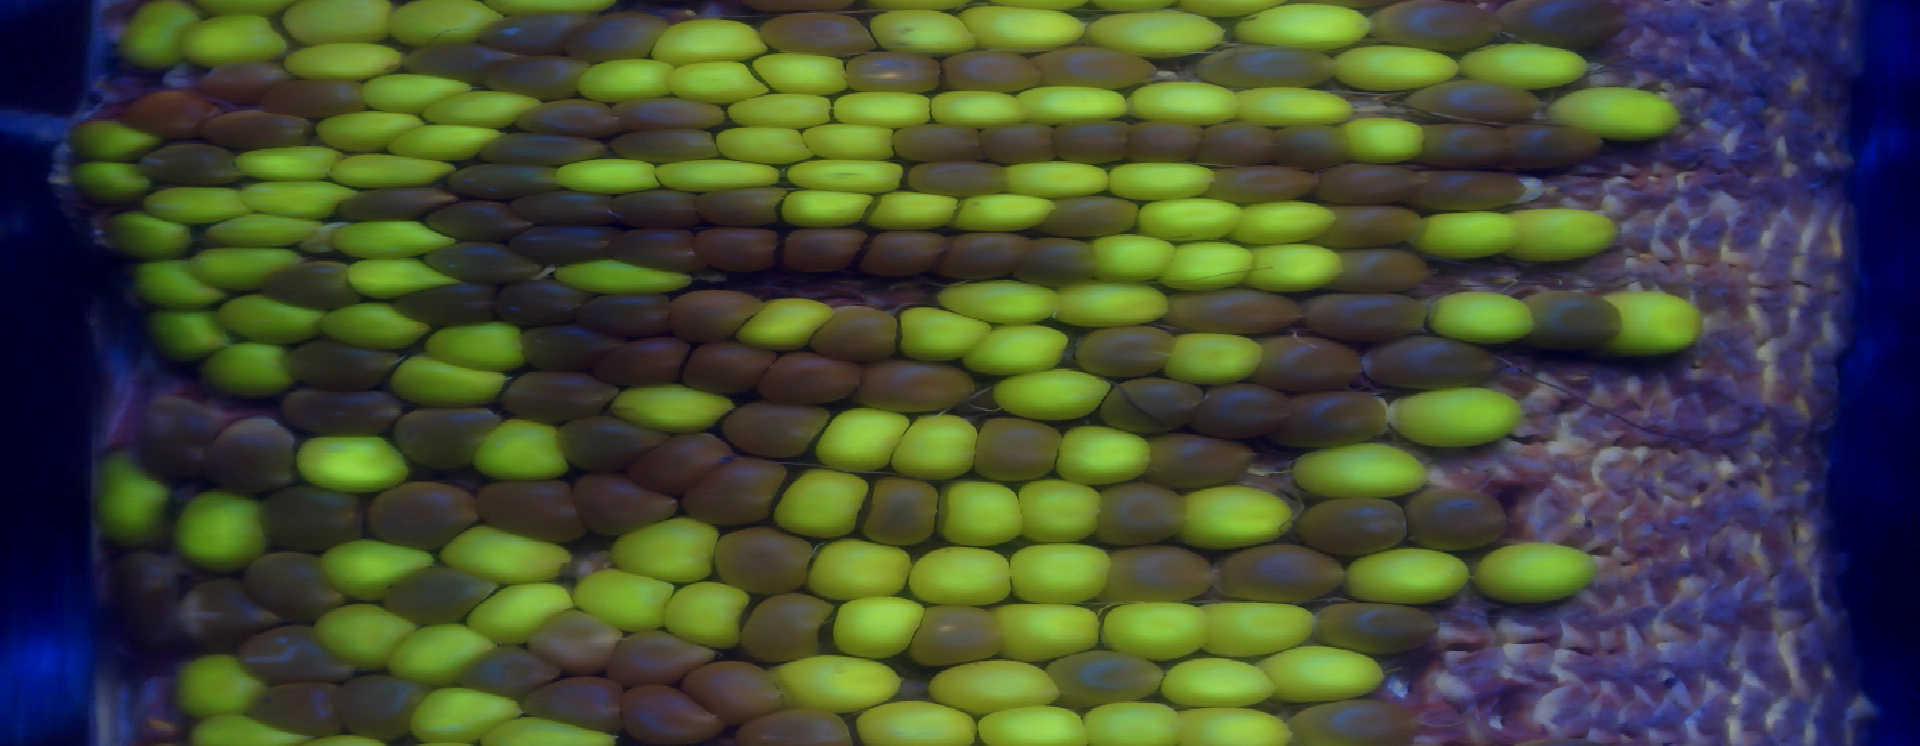fluorescent: (1476, 541, 1602, 612), (1386, 386, 1524, 450), (609, 376, 744, 437), (171, 495, 278, 572), (609, 511, 720, 584), (471, 414, 583, 486), (377, 617, 498, 684), (1501, 200, 1625, 263), (288, 431, 414, 492), (1597, 290, 1714, 355), (196, 334, 305, 404), (1182, 478, 1291, 548), (989, 367, 1113, 429), (1195, 601, 1324, 660), (92, 448, 173, 541), (771, 467, 876, 539), (1157, 650, 1281, 710), (927, 661, 1067, 714), (440, 526, 562, 586), (1553, 88, 1682, 145), (1341, 552, 1476, 606), (1293, 446, 1433, 497), (769, 652, 899, 707), (813, 402, 910, 475), (887, 403, 977, 481), (1085, 13, 1229, 62), (391, 349, 513, 405), (1424, 288, 1540, 347), (411, 685, 523, 746), (835, 586, 920, 665), (1259, 649, 1389, 701), (1015, 472, 1102, 548), (809, 537, 911, 601), (996, 601, 1097, 666), (418, 317, 534, 374), (577, 566, 673, 633), (937, 477, 1029, 546), (1464, 40, 1586, 93), (1409, 209, 1523, 265), (1236, 81, 1360, 131), (951, 317, 1073, 369), (1237, 2, 1374, 48), (1048, 277, 1182, 323), (317, 601, 418, 663), (169, 655, 269, 717), (649, 154, 787, 198), (1100, 601, 1215, 654), (389, 1, 513, 50), (868, 9, 986, 60), (553, 256, 703, 296), (571, 51, 680, 107), (905, 548, 1013, 603), (141, 300, 234, 364), (1237, 240, 1348, 293), (969, 2, 1091, 50), (551, 152, 666, 202), (1160, 236, 1258, 295), (322, 543, 440, 592), (279, 1, 402, 48), (934, 283, 1057, 330), (740, 292, 840, 348), (1123, 80, 1244, 126), (664, 582, 746, 650), (662, 53, 767, 107), (1007, 544, 1116, 595), (1163, 327, 1270, 379), (327, 149, 454, 192), (327, 295, 422, 352), (1051, 425, 1146, 481), (170, 18, 291, 62), (345, 256, 478, 296), (1163, 706, 1296, 746), (899, 307, 989, 366), (471, 586, 576, 636), (384, 116, 500, 162), (218, 303, 329, 349), (656, 17, 769, 62), (190, 244, 309, 287), (187, 710, 331, 746), (1008, 83, 1124, 126), (803, 121, 902, 171), (116, 2, 202, 60), (1000, 160, 1116, 203), (1138, 198, 1240, 246), (1085, 229, 1179, 281), (850, 708, 977, 746), (1337, 47, 1450, 89), (280, 40, 407, 78), (781, 184, 878, 233), (478, 713, 620, 746), (133, 262, 233, 309), (1231, 198, 1335, 243), (784, 156, 902, 194), (362, 69, 467, 111), (715, 122, 816, 167), (726, 94, 838, 134), (971, 710, 1093, 746), (1104, 159, 1209, 201), (749, 54, 849, 96), (334, 220, 448, 256), (104, 216, 197, 258), (1340, 118, 1423, 165), (924, 87, 1016, 130), (144, 189, 253, 224), (239, 183, 355, 216), (871, 187, 959, 230), (320, 109, 418, 147), (235, 148, 351, 180), (1084, 704, 1167, 746), (67, 118, 153, 158), (830, 94, 931, 129), (65, 160, 148, 198), (960, 194, 1052, 228), (204, 217, 317, 243)
nonfluorescent: (1212, 541, 1358, 608), (241, 555, 365, 624), (1397, 481, 1509, 557), (1363, 328, 1502, 388), (1309, 595, 1446, 655), (475, 480, 588, 552), (129, 401, 233, 478), (1164, 283, 1310, 338), (227, 625, 362, 684), (716, 396, 831, 464), (362, 488, 493, 548), (1521, 293, 1640, 359), (107, 555, 189, 650), (170, 579, 288, 644), (1102, 545, 1221, 609), (1401, 78, 1554, 127), (741, 592, 838, 668), (530, 605, 632, 677), (1296, 497, 1413, 560), (1201, 45, 1351, 94), (1281, 696, 1425, 746), (1111, 364, 1202, 442), (856, 356, 973, 418), (1276, 387, 1393, 448), (707, 530, 822, 593), (260, 480, 372, 544), (1499, 1, 1641, 51), (328, 669, 433, 736), (529, 664, 634, 731), (569, 474, 680, 538), (686, 661, 793, 726), (244, 674, 340, 746), (558, 416, 671, 478), (1245, 334, 1375, 387), (756, 6, 877, 62), (1371, 1, 1507, 51), (1147, 430, 1256, 492), (970, 415, 1069, 484), (1305, 290, 1434, 342), (615, 685, 722, 746), (503, 367, 624, 420), (1035, 47, 1164, 96), (396, 412, 504, 469), (1194, 381, 1300, 440), (856, 478, 945, 546), (284, 386, 409, 435), (386, 278, 504, 330), (687, 457, 782, 521), (457, 639, 564, 696), (682, 337, 782, 397), (613, 625, 708, 688), (911, 600, 998, 669), (208, 430, 299, 494), (293, 341, 411, 388), (1505, 121, 1600, 180), (258, 258, 365, 311), (1042, 657, 1172, 699), (1329, 245, 1436, 296), (381, 571, 500, 617), (604, 220, 707, 273), (1093, 486, 1187, 544), (631, 435, 731, 488), (1314, 205, 1434, 247), (516, 320, 612, 372), (1420, 168, 1528, 214), (816, 303, 902, 360), (760, 355, 864, 403), (933, 47, 1042, 92), (572, 12, 669, 62), (1082, 327, 1174, 380), (689, 220, 785, 271), (516, 220, 618, 267), (864, 227, 955, 279), (1046, 119, 1131, 173), (489, 277, 588, 323), (948, 234, 1031, 289), (1424, 121, 1520, 169), (429, 241, 544, 281), (669, 287, 758, 337), (973, 121, 1067, 169), (427, 202, 536, 243), (596, 338, 696, 382), (885, 122, 1000, 160), (733, 710, 856, 746), (902, 158, 1009, 198), (263, 80, 369, 120), (845, 53, 944, 96), (518, 96, 617, 138), (399, 39, 507, 78), (489, 54, 587, 97), (478, 130, 604, 163), (209, 107, 318, 145), (585, 293, 680, 336), (1044, 195, 1134, 239), (121, 89, 212, 132), (1198, 122, 1281, 169), (1320, 163, 1424, 200), (1218, 167, 1318, 205), (610, 187, 705, 227), (138, 147, 242, 183), (611, 96, 726, 127), (776, 228, 866, 268), (1022, 239, 1092, 290), (511, 187, 615, 220), (692, 187, 787, 223), (1123, 120, 1207, 159), (196, 62, 291, 97), (484, 13, 579, 47), (1275, 121, 1349, 163), (609, 130, 719, 157), (340, 191, 456, 216), (454, 168, 564, 191)
